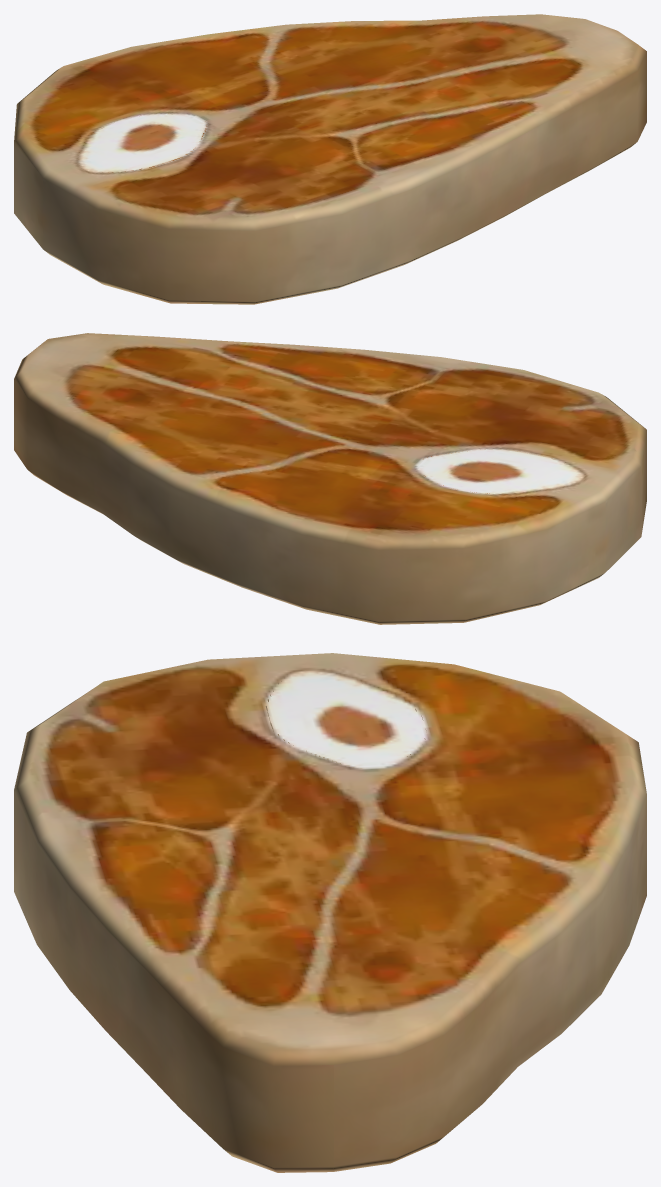
3 renders of one model, top to bottom at view 1: azimuth 30°, elevation 25°; view 2: azimuth 150°, elevation 25°; view 3: azimuth 270°, elevation 25°, orthographic. The views are drawn at different scales.
Parts seen in each view (by area): view 1: SM_Raw_Mutton_01_LOD0; view 2: SM_Raw_Mutton_01_LOD0; view 3: SM_Raw_Mutton_01_LOD0.
Boxes of the visible parts, x1=… form: SM_Raw_Mutton_01_LOD0: x1=14, y1=14, x2=646, y2=304; SM_Raw_Mutton_01_LOD0: x1=14, y1=333, x2=646, y2=624; SM_Raw_Mutton_01_LOD0: x1=14, y1=653, x2=646, y2=1172.
Bounding box in the file's own units: 0.3101 × 0.0435 × 0.2036.
1 material, 1 textured.
